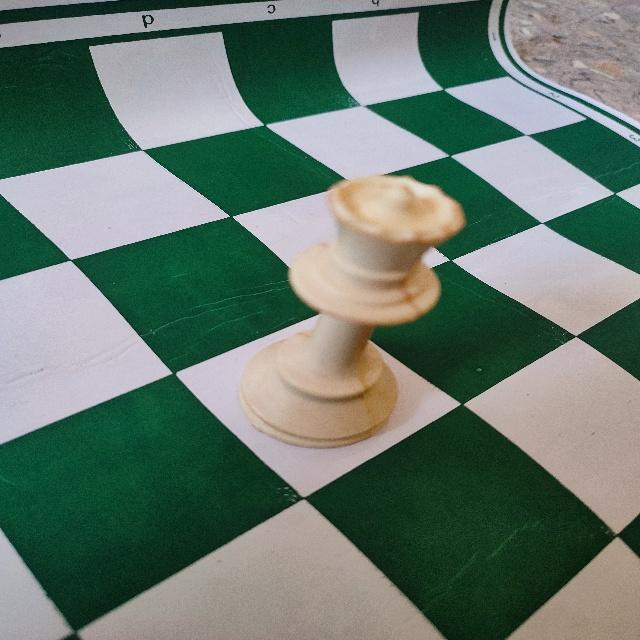Queen: (232, 164, 468, 452)
